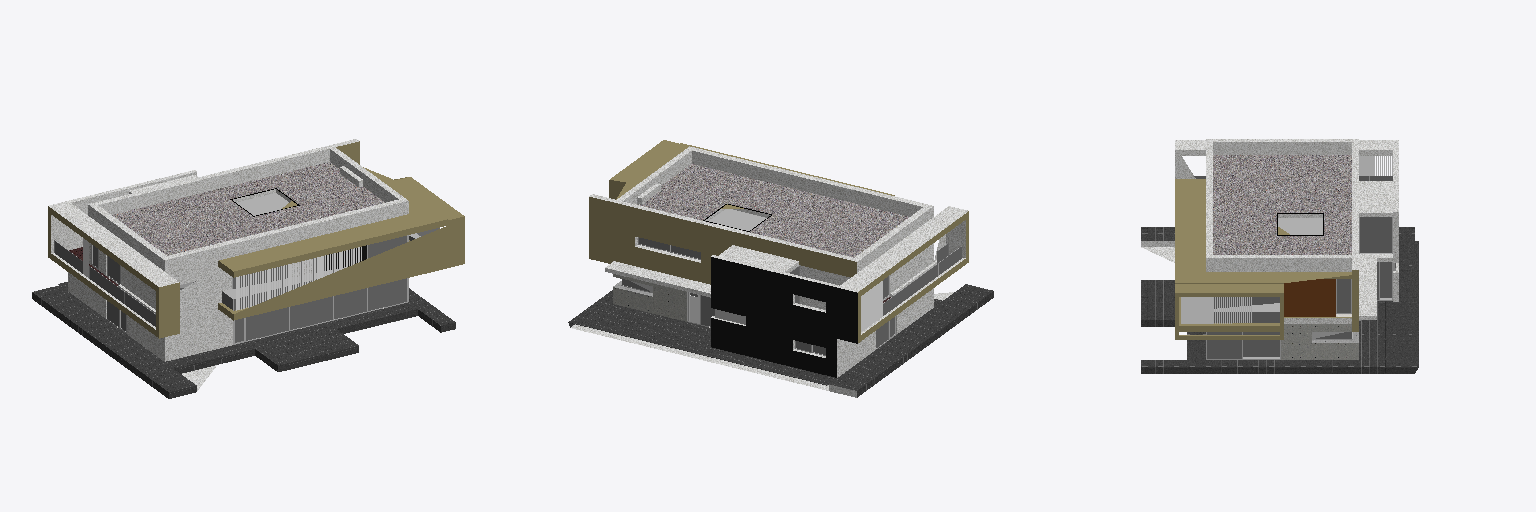
3 renders of one model, left to right at view 1: azimuth 30°, elevation 25°; view 2: azimuth 150°, elevation 25°; view 3: azimuth 270°, elevation 25°, orthographic.
Visible parts, largest first — view 1: Mesh267 Model, Mesh30 Group37 Group36 Group5 Model, Mesh233 Group52 Model, Mesh232 Group51 Model, Mesh32 Group41 Group5 Model; view 2: Mesh267 Model, Mesh240 Group58 Model, Mesh233 Group52 Model, Mesh32 Group41 Group5 Model; view 3: Mesh267 Model, Mesh240 Group58 Model, Mesh6 Group7 Group5 Model, Mesh30 Group37 Group36 Group5 Model, Mesh232 Group51 Model, Mesh31 Group40 Group39 Group36 Group5 Model, Mesh32 Group41 Group5 Model, Mesh5 Group6 Group5 Model.
Boxes of the visible parts, x1,y1,x2,y2 form: Mesh267 Model: [32, 139, 464, 398]; Mesh30 Group37 Group36 Group5 Model: [233, 278, 408, 344]; Mesh233 Group52 Model: [54, 240, 155, 326]; Mesh232 Group51 Model: [222, 233, 420, 310]; Mesh32 Group41 Group5 Model: [237, 193, 288, 215]; Mesh267 Model: [568, 140, 993, 397]; Mesh240 Group58 Model: [613, 274, 686, 321]; Mesh233 Group52 Model: [883, 246, 961, 315]; Mesh32 Group41 Group5 Model: [709, 209, 766, 230]; Mesh267 Model: [1141, 139, 1418, 373]; Mesh240 Group58 Model: [1281, 324, 1358, 359]; Mesh6 Group7 Group5 Model: [1359, 217, 1392, 253]; Mesh30 Group37 Group36 Group5 Model: [1206, 332, 1280, 359]; Mesh232 Group51 Model: [1214, 303, 1279, 322]; Mesh31 Group40 Group39 Group36 Group5 Model: [1243, 332, 1279, 357]; Mesh32 Group41 Group5 Model: [1278, 218, 1322, 234]; Mesh5 Group6 Group5 Model: [1336, 279, 1351, 313].
Size of the model in its own units: 2362 by 783 by 1812.
23 materials, 8 textured.